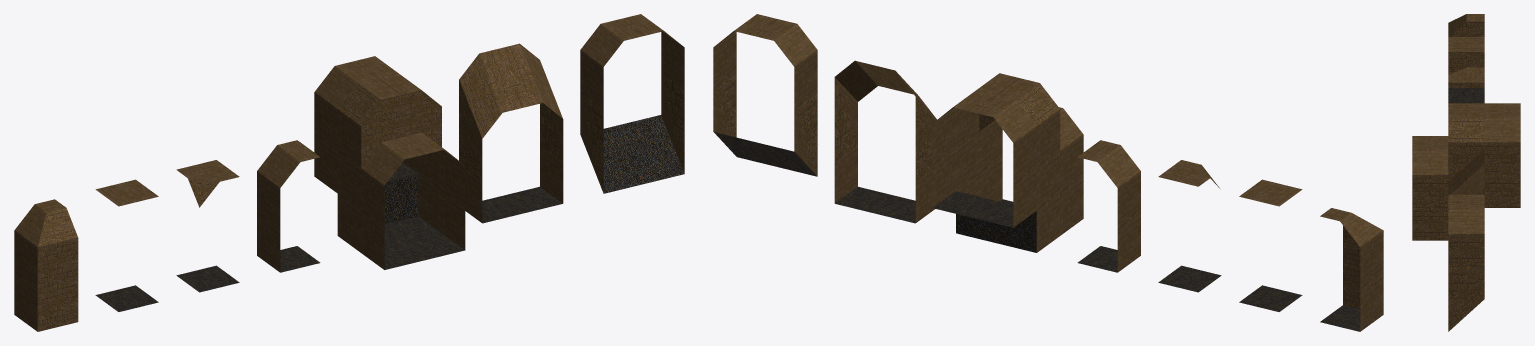
File: MyOwnTiles.glb
The picture shows the model from 3 angles, left to right: view 1: azimuth 30°, elevation 25°; view 2: azimuth 150°, elevation 25°; view 3: azimuth 270°, elevation 25°; orthographic projection. The views are drawn at different scales.
Parts seen in each view (by area): view 1: Wall_out-col, leftDobs-col, leftslide-col, leftobs1-col, rightslide-col, rightobs1-col, rightDobs-col, leftupobs1-col, wall-col, leftBlockUp-col, rightupobs-col, rightBlockUp-col (+2 smaller); view 2: leftBlockUp-col, Wall_out-col, rightDobs-col, leftslide-col, leftupobs1-col, rightBlockUp-col, wall-col, rightslide-col, leftDobs-col, leftobs1-col, rightupobs-col, rightobs1-col (+2 smaller); view 3: rightslide-col, rightobs1-col, rightBlockUp-col, Wall_out-col, rightupobs-col, rightDobs-col, ground-col, corner-col, leftslide-col, leftDobs-col, leftupobs1-col, leftBlockUp-col (+1 smaller).
Boxes of the visible parts, x1,y1,x2,y2 form: Wall_out-col: (14, 199, 78, 331); leftDobs-col: (459, 48, 522, 223); leftslide-col: (580, 19, 643, 193); leftobs1-col: (361, 95, 424, 269); rightslide-col: (621, 14, 684, 183); rightobs1-col: (401, 90, 465, 260); rightDobs-col: (499, 43, 563, 213); leftupobs1-col: (337, 78, 401, 252); wall-col: (257, 140, 320, 272); leftBlockUp-col: (314, 61, 377, 193); rightupobs-col: (378, 73, 441, 243); rightBlockUp-col: (355, 56, 418, 224); leftBlockUp-col: (973, 95, 1036, 252); Wall_out-col: (1320, 208, 1383, 331); rightDobs-col: (834, 60, 897, 213); leftslide-col: (754, 19, 817, 176); leftupobs1-col: (996, 78, 1060, 252); rightBlockUp-col: (932, 90, 996, 242); wall-col: (1077, 140, 1140, 272); rightslide-col: (713, 14, 776, 166); leftDobs-col: (875, 65, 936, 223); leftobs1-col: (1059, 107, 1083, 235); rightupobs-col: (956, 73, 1019, 196); rightobs1-col: (979, 114, 1013, 204); rightslide-col: (1448, 202, 1484, 331); rightobs1-col: (1412, 143, 1448, 240); rightBlockUp-col: (1484, 111, 1520, 207); Wall_out-col: (1448, 14, 1484, 103); rightupobs-col: (1448, 111, 1484, 181); rightDobs-col: (1448, 157, 1484, 194); ground-col: (1448, 37, 1484, 51); corner-col: (1448, 67, 1484, 83); leftslide-col: (1448, 194, 1484, 202); leftDobs-col: (1448, 149, 1484, 188); leftupobs1-col: (1448, 103, 1484, 110); leftBlockUp-col: (1484, 103, 1520, 110).
Bounding box in the file's own units: 16 × 3.5 × 3.
Materials: 2 (2 with a texture image).
